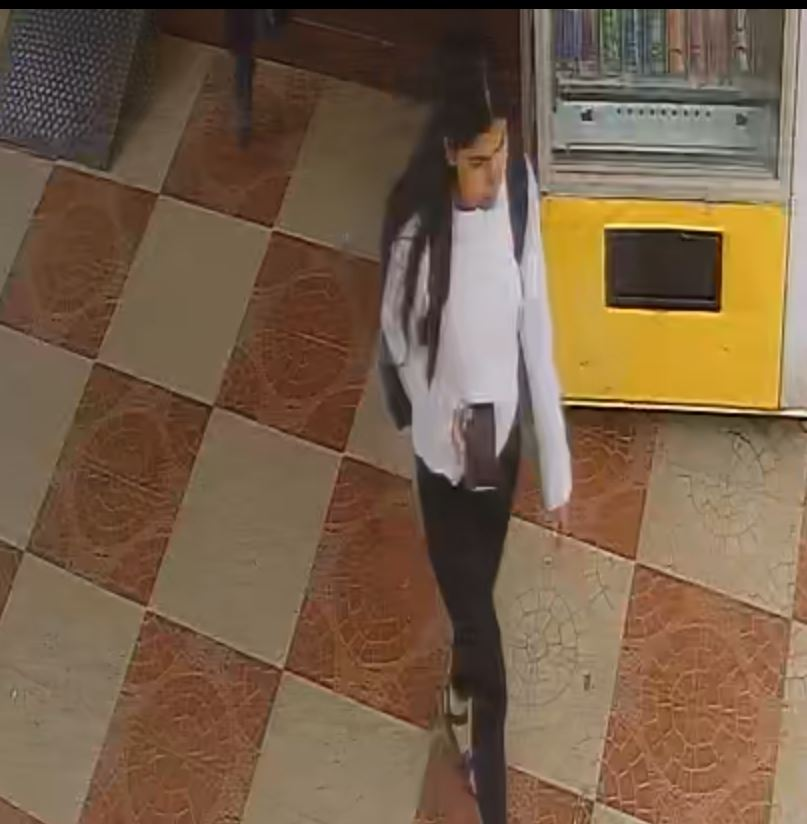intruder: (382, 28, 575, 824)
